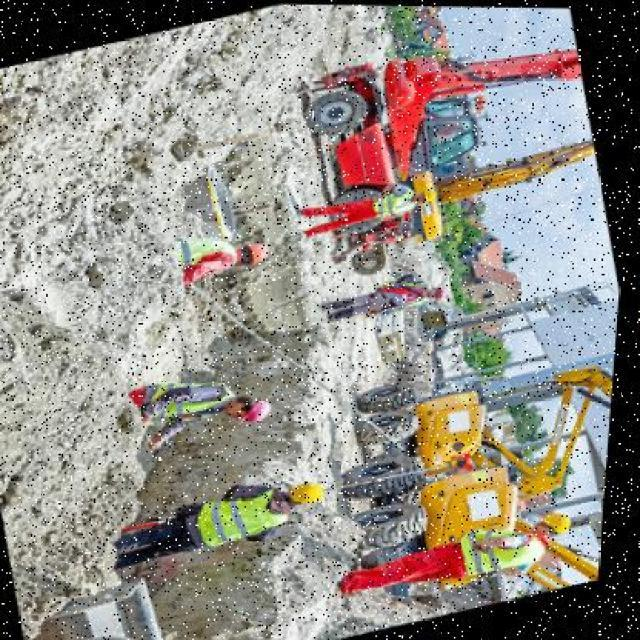helmet: (291, 476, 337, 509), (548, 503, 588, 536), (244, 397, 284, 428), (251, 241, 275, 265)
vest: (186, 486, 294, 558), (457, 515, 557, 585), (138, 368, 242, 428), (174, 225, 252, 285), (368, 188, 414, 220)
